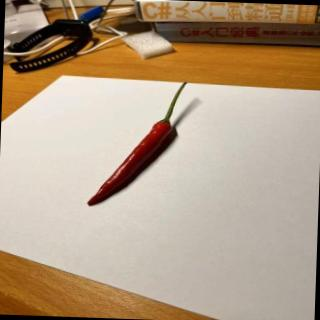Cabai Merah: (87, 79, 188, 209)
